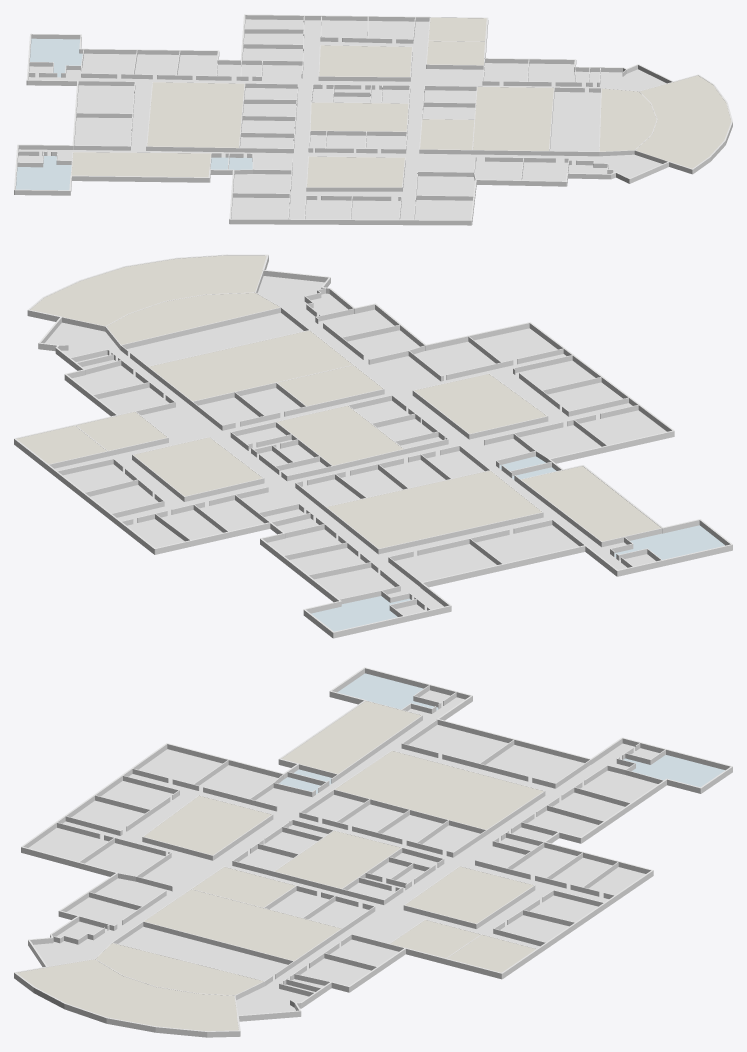
3 renders of one model, top to bottom at view 1: azimuth 30°, elevation 25°; view 2: azimuth 150°, elevation 25°; view 3: azimuth 270°, elevation 25°, orthographic. The views are drawn at different scales.
Parts seen in each view (by area): view 1: m_b2bea23b5d3c144b; view 2: m_b2bea23b5d3c144b; view 3: m_b2bea23b5d3c144b.
Boxes of the visible parts, x1,y1,x2,y2 form: m_b2bea23b5d3c144b: [14, 14, 732, 225]; m_b2bea23b5d3c144b: [14, 254, 732, 638]; m_b2bea23b5d3c144b: [14, 667, 732, 1037].
Bounding box in the file's own units: 65.68 × 0.4708 × 54.73.
